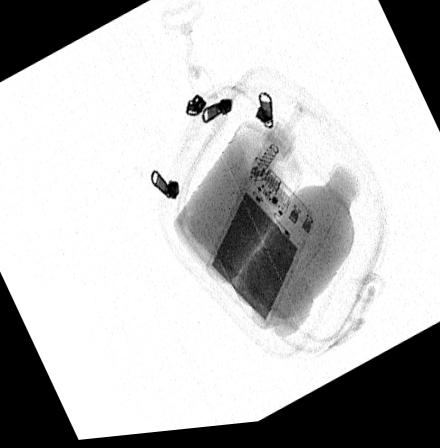Powerbank: (204, 159, 316, 336)
